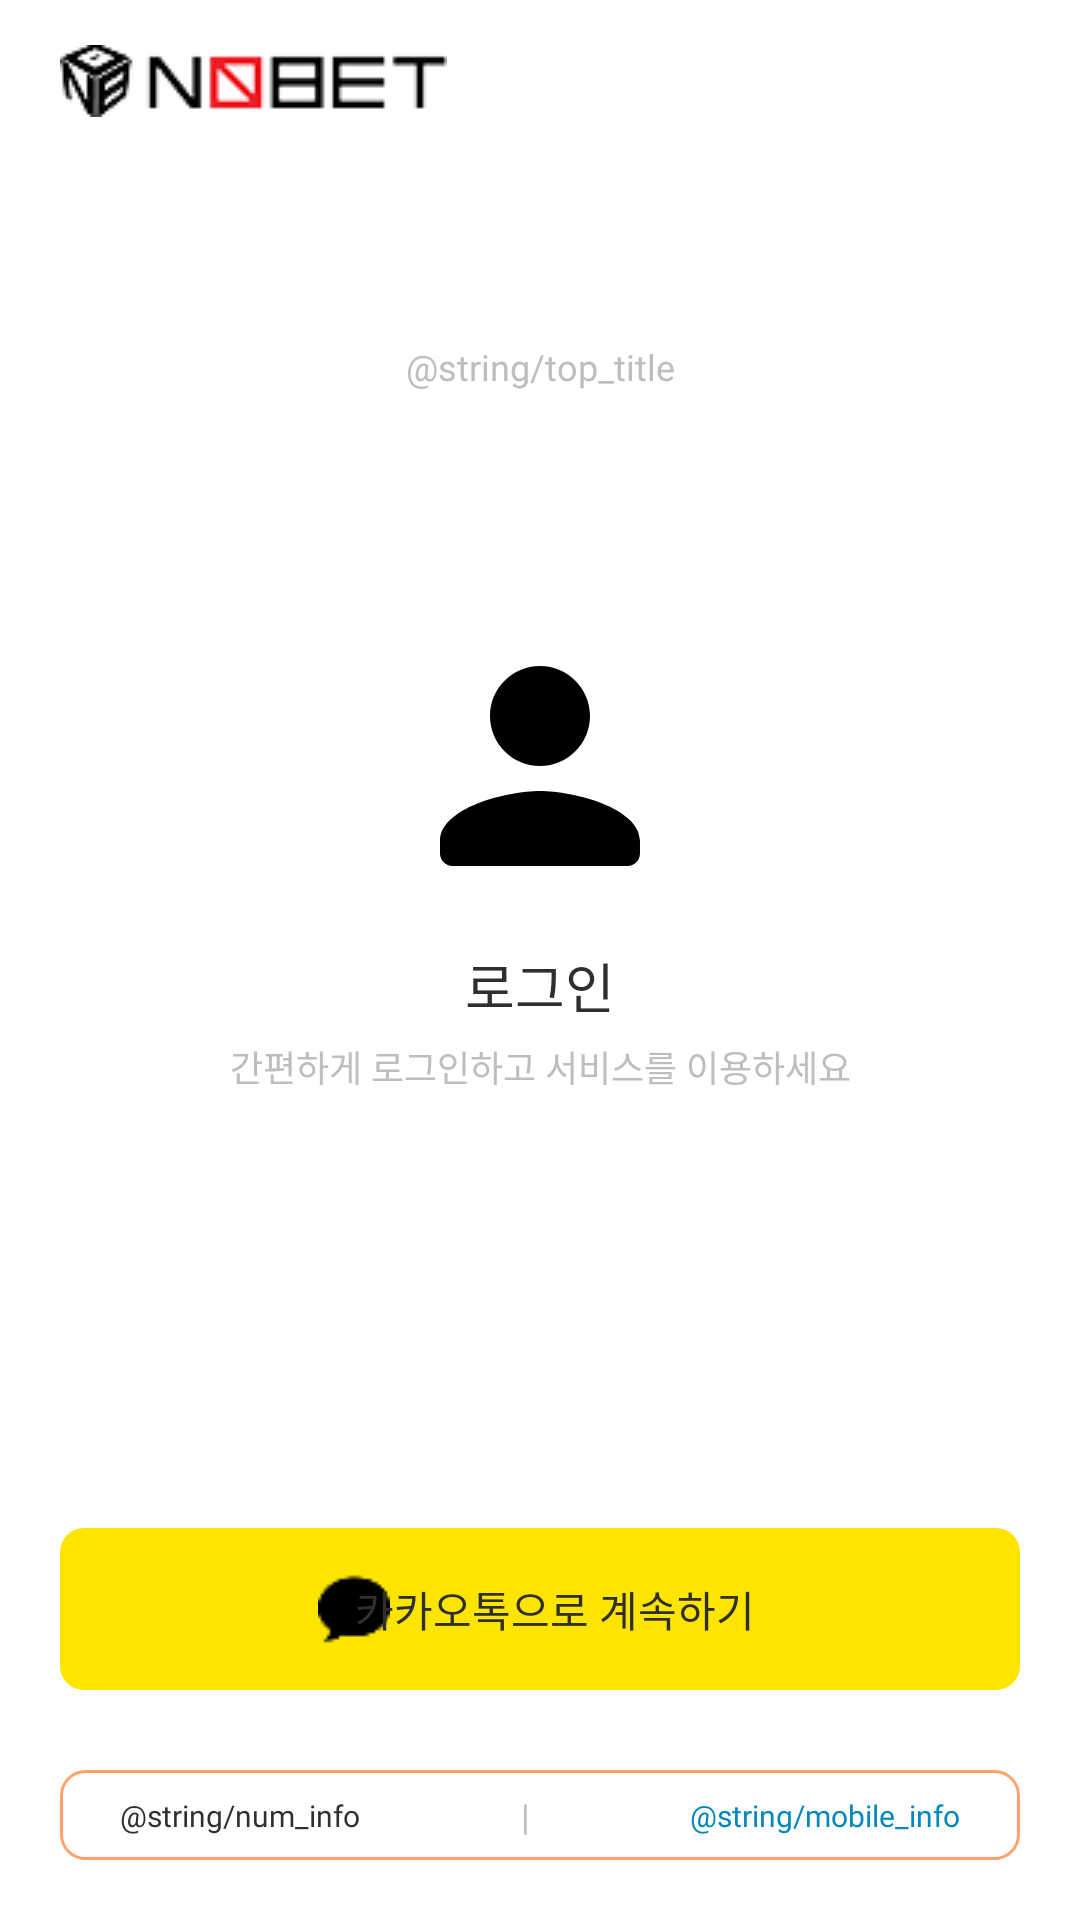

Where to tap for icons on this 1080*1920 app screen, as point (x, y):
person: point (540, 766)
